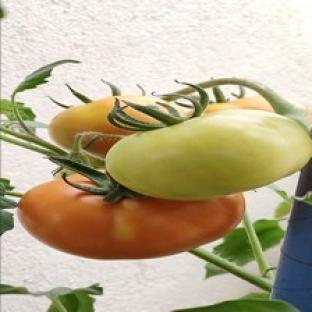Tomato: (106, 109, 311, 200), (19, 180, 245, 259), (49, 95, 162, 149), (205, 97, 274, 112)
